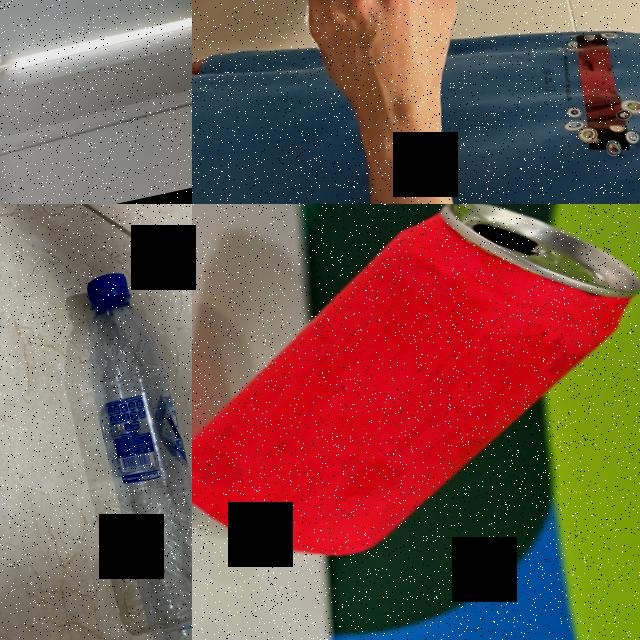bottle: (66, 261, 192, 640), (269, 0, 593, 55)
can: (192, 204, 640, 589)
